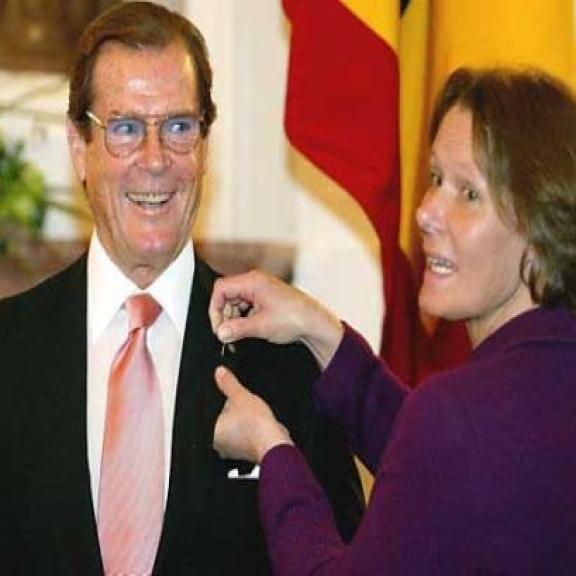face: (62, 37, 231, 273), (410, 90, 534, 334)
